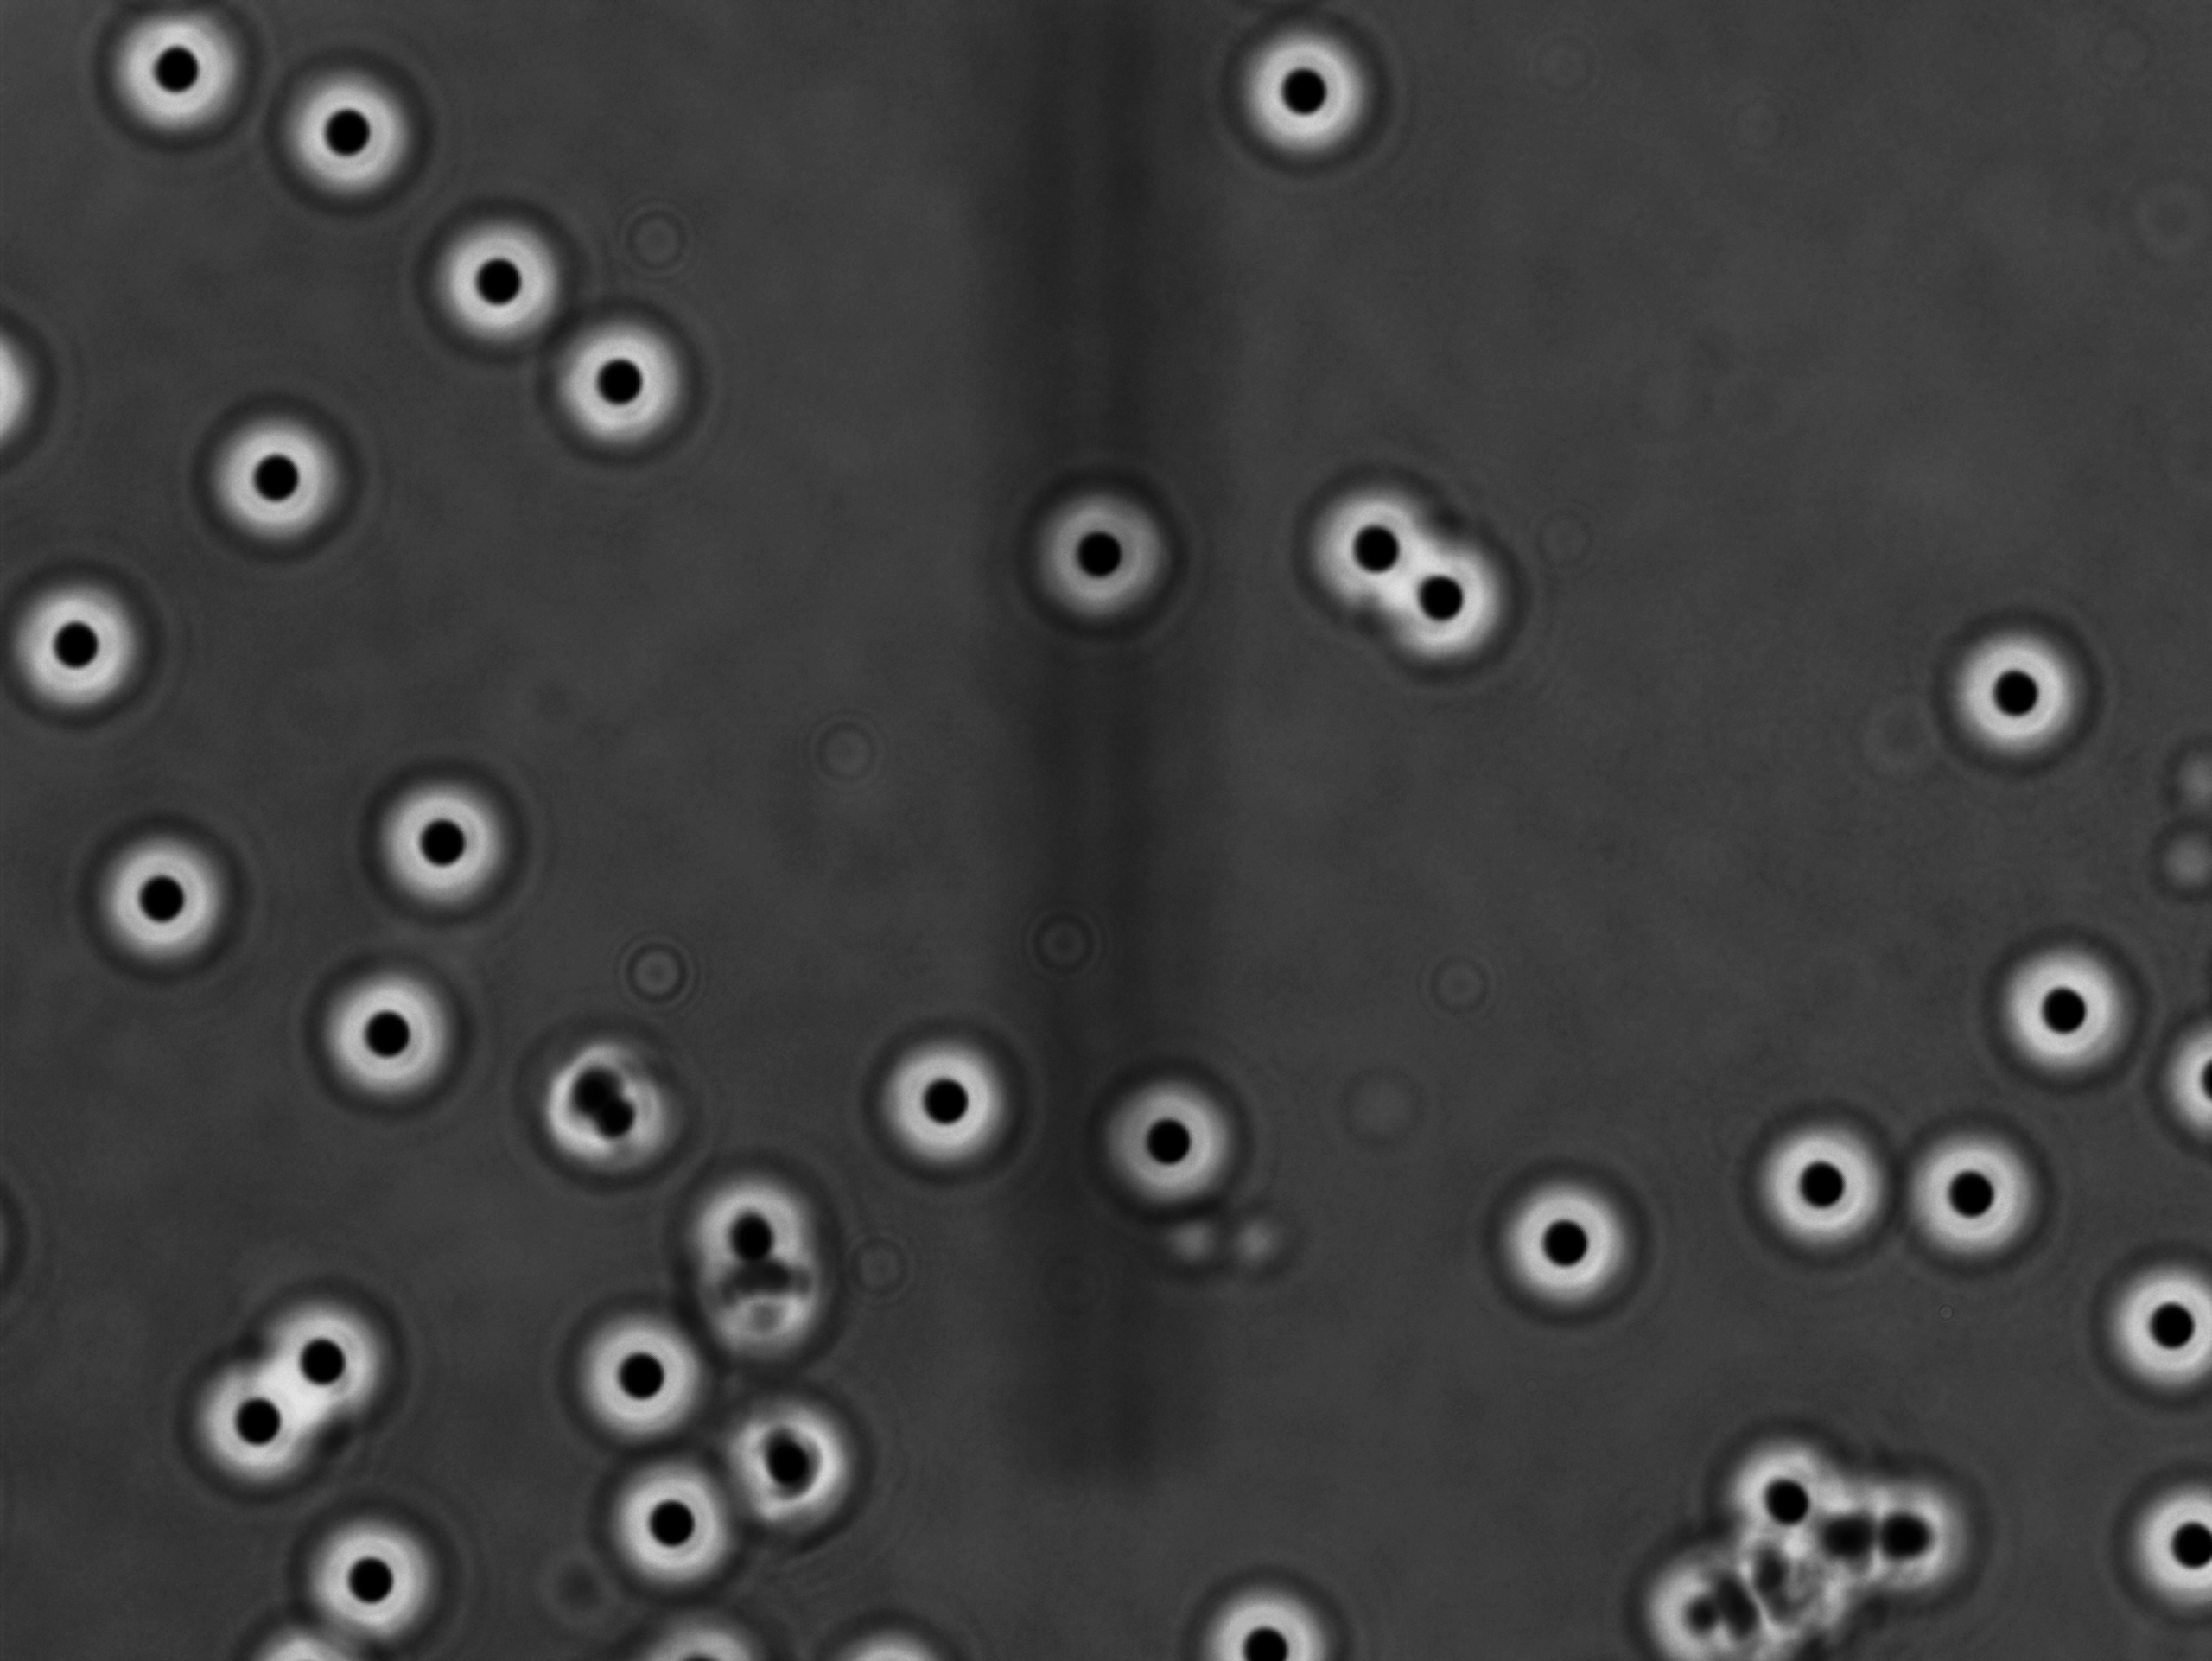depth:-40: (846, 989, 1068, 1195), (1924, 583, 2120, 790), (1893, 1099, 2090, 1291), (338, 748, 544, 930), (1964, 919, 2167, 1101), (1017, 445, 1190, 653), (1209, 14, 1408, 192), (1474, 1150, 1657, 1338), (1715, 1108, 1903, 1291), (68, 797, 260, 977), (302, 940, 494, 1117), (1090, 1052, 1272, 1235), (1296, 445, 1467, 630), (195, 393, 377, 564), (253, 45, 434, 216), (562, 1282, 748, 1446), (412, 202, 591, 368), (1687, 1415, 1868, 1576), (239, 1267, 410, 1429), (157, 1343, 330, 1504), (302, 1494, 466, 1658), (543, 304, 710, 462), (590, 1460, 750, 1617), (2081, 1228, 2212, 1408), (1380, 522, 1530, 673), (2086, 1452, 2212, 1623), (1171, 1562, 1375, 1661)
